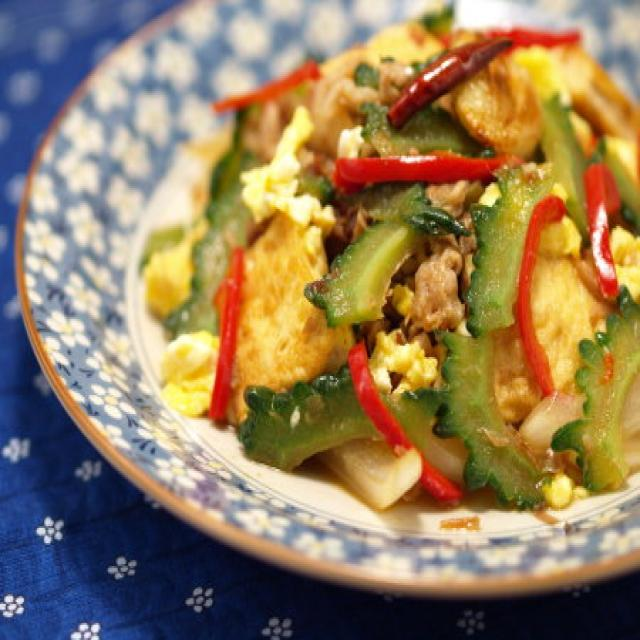熟制海鲜: (10, 0, 640, 600)
